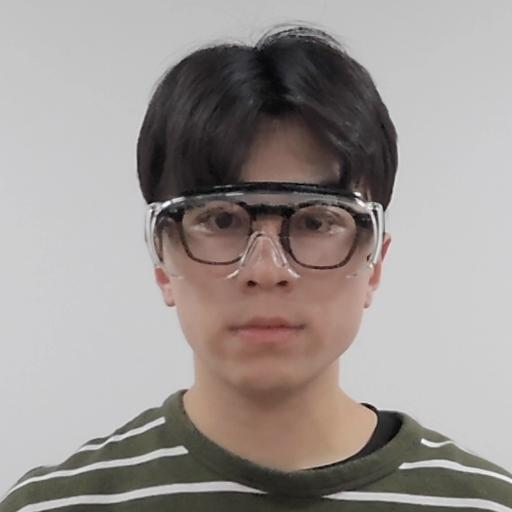glasses: (135, 35, 402, 380)
